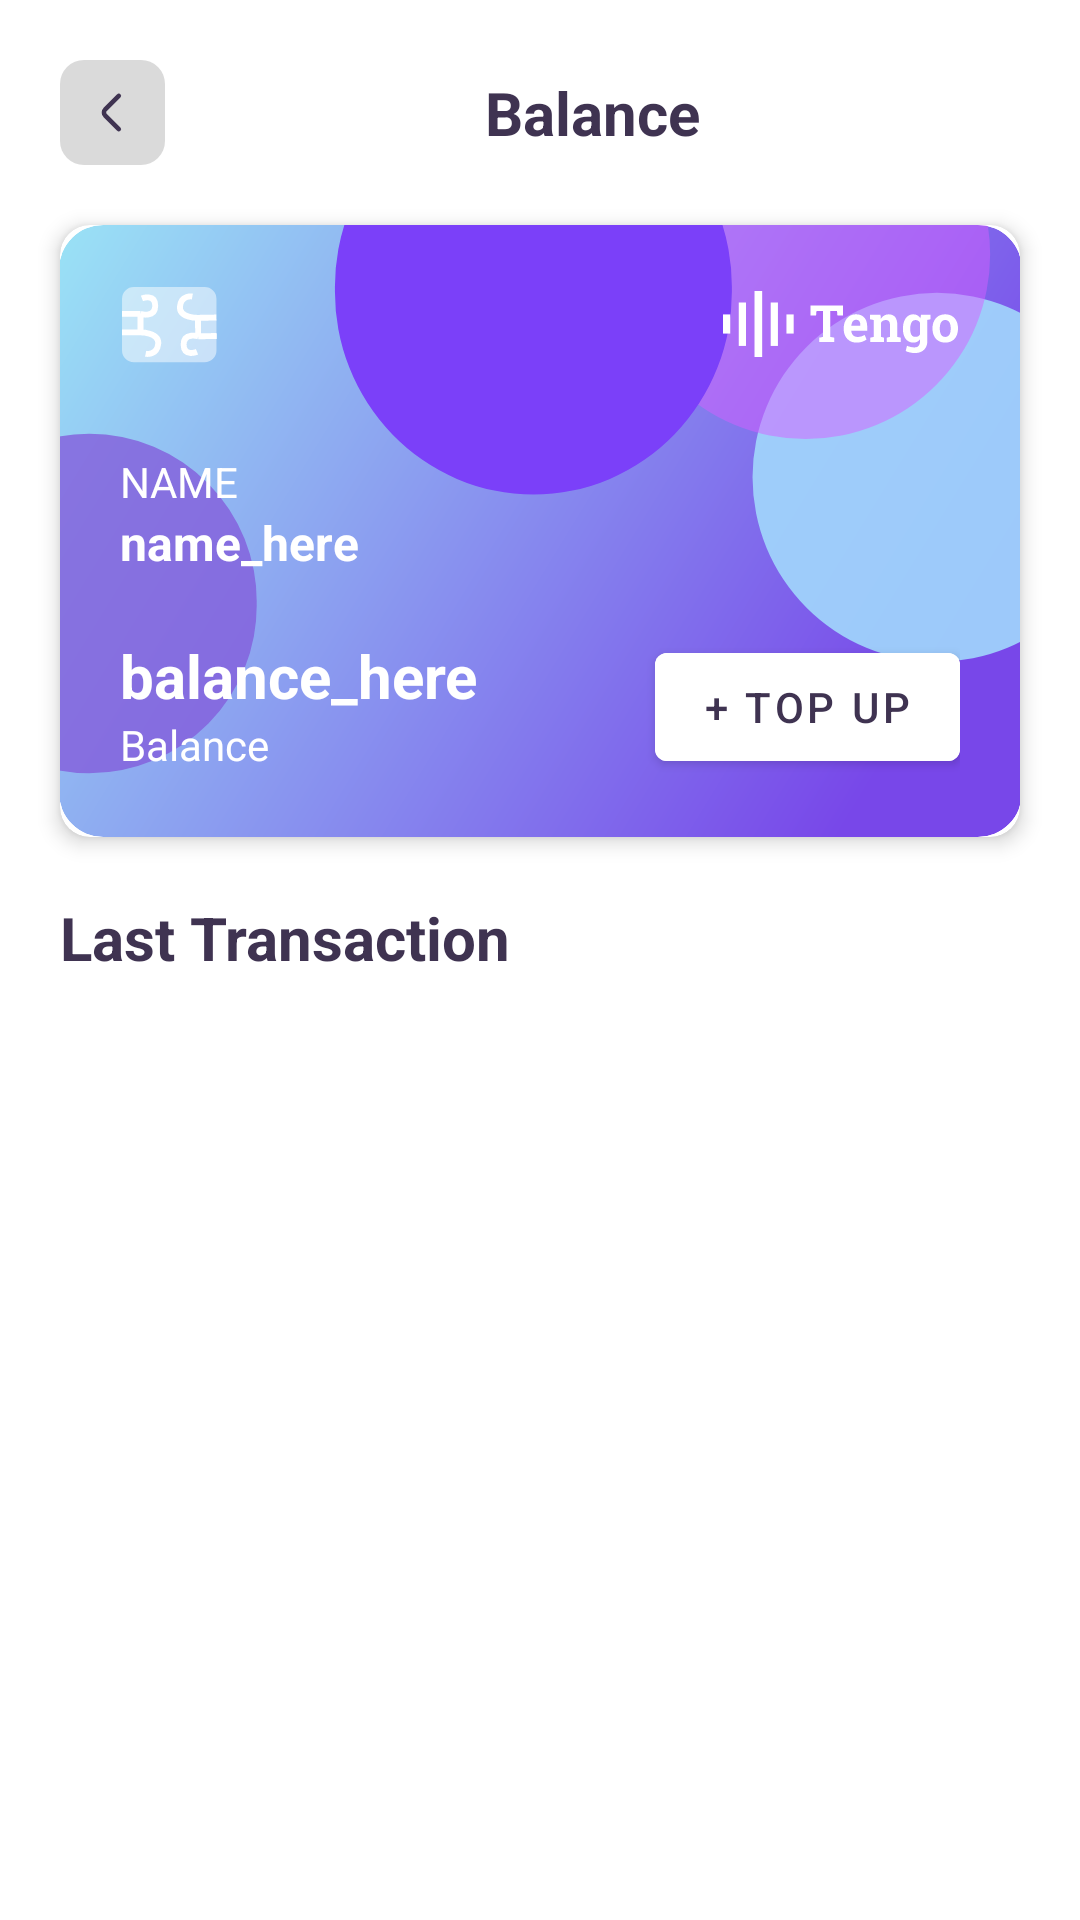

Point at icon controls on the screen. Image size 1080px x 1920px, points as (x=x, y=y).
back: (x=112, y=112)
card chip: (x=169, y=324)
